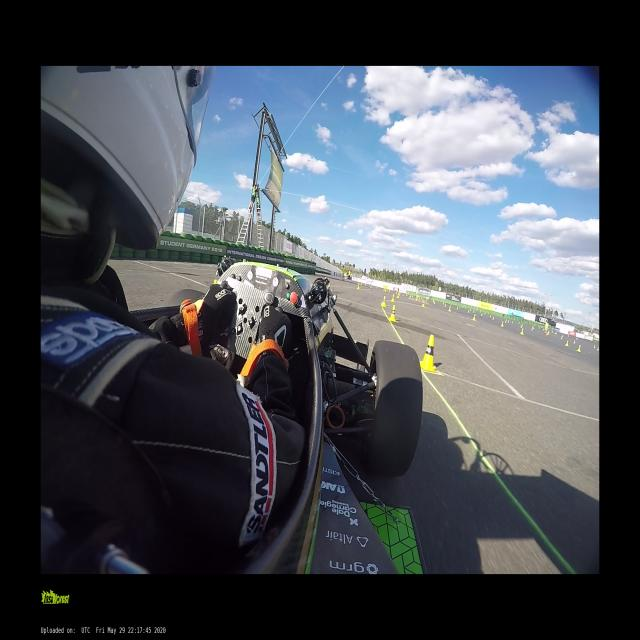yellow_cone: (419, 335, 438, 372), (388, 304, 396, 322), (381, 295, 386, 307), (576, 344, 581, 352), (472, 314, 476, 321), (520, 329, 524, 335), (391, 294, 394, 302), (356, 283, 359, 290), (572, 339, 576, 344), (448, 306, 451, 312), (501, 321, 504, 327), (422, 302, 425, 307), (566, 341, 568, 346), (397, 294, 399, 298)
